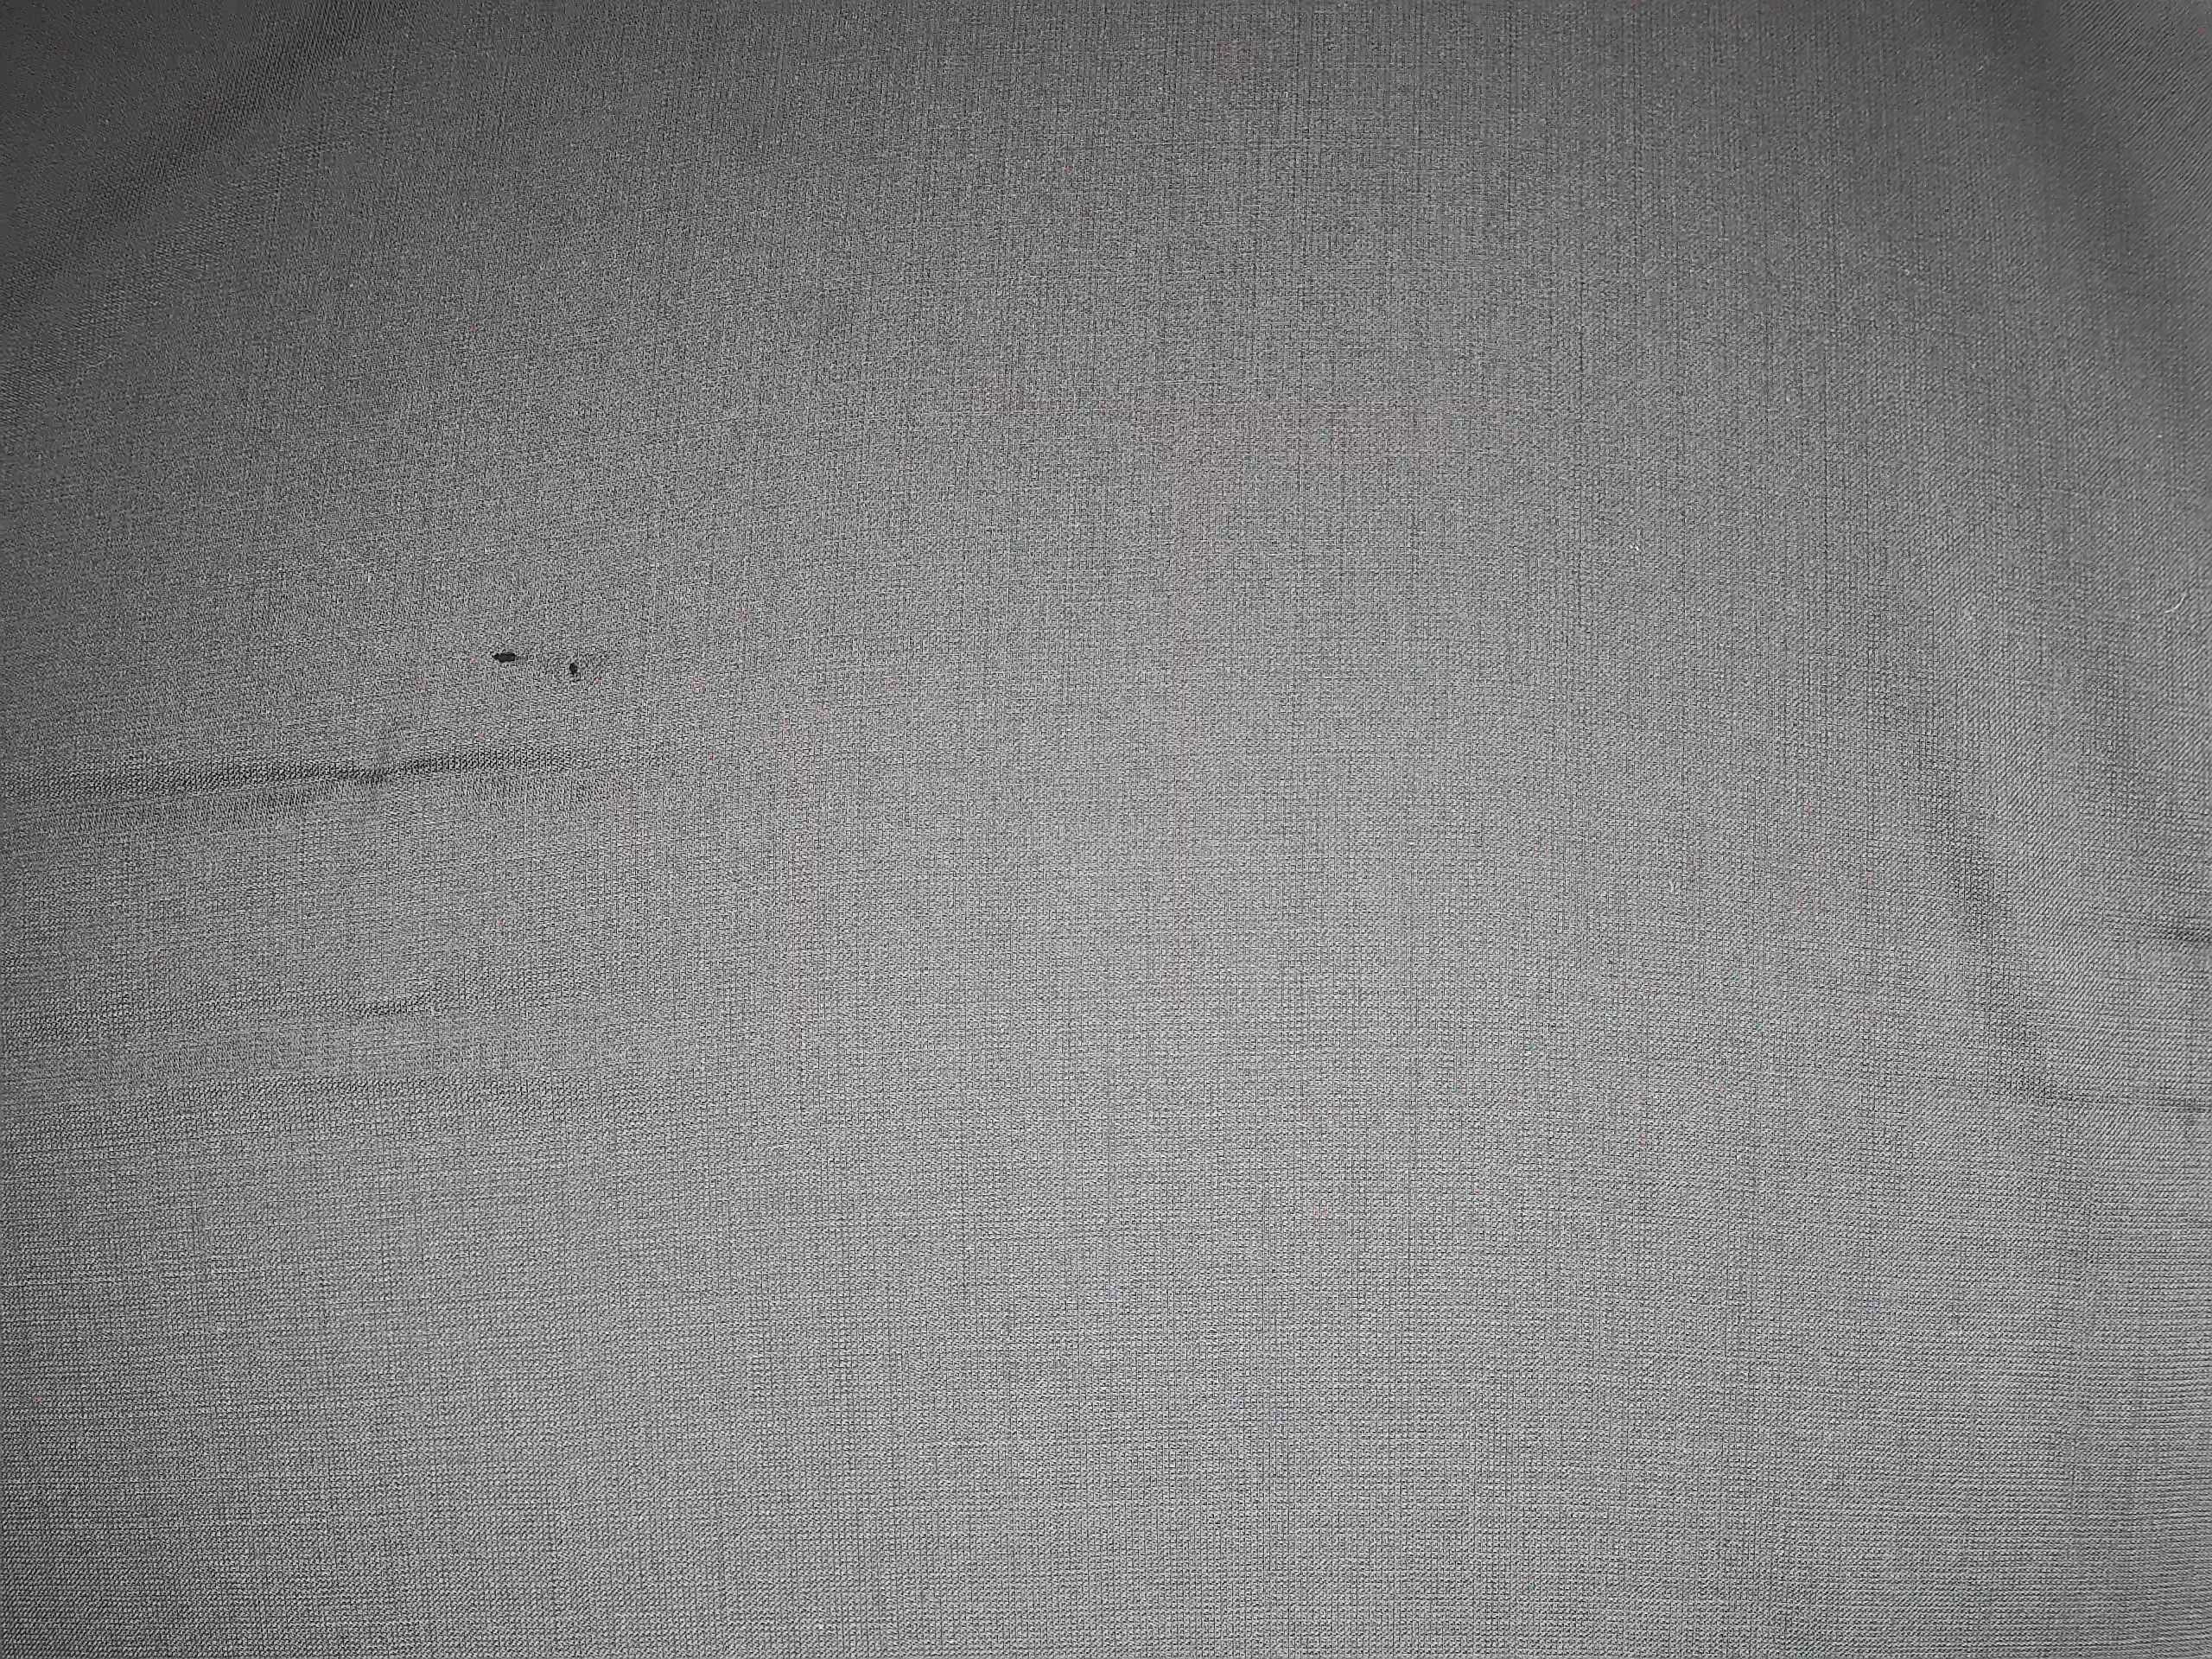rubbing-hole: (481, 636, 599, 697)
